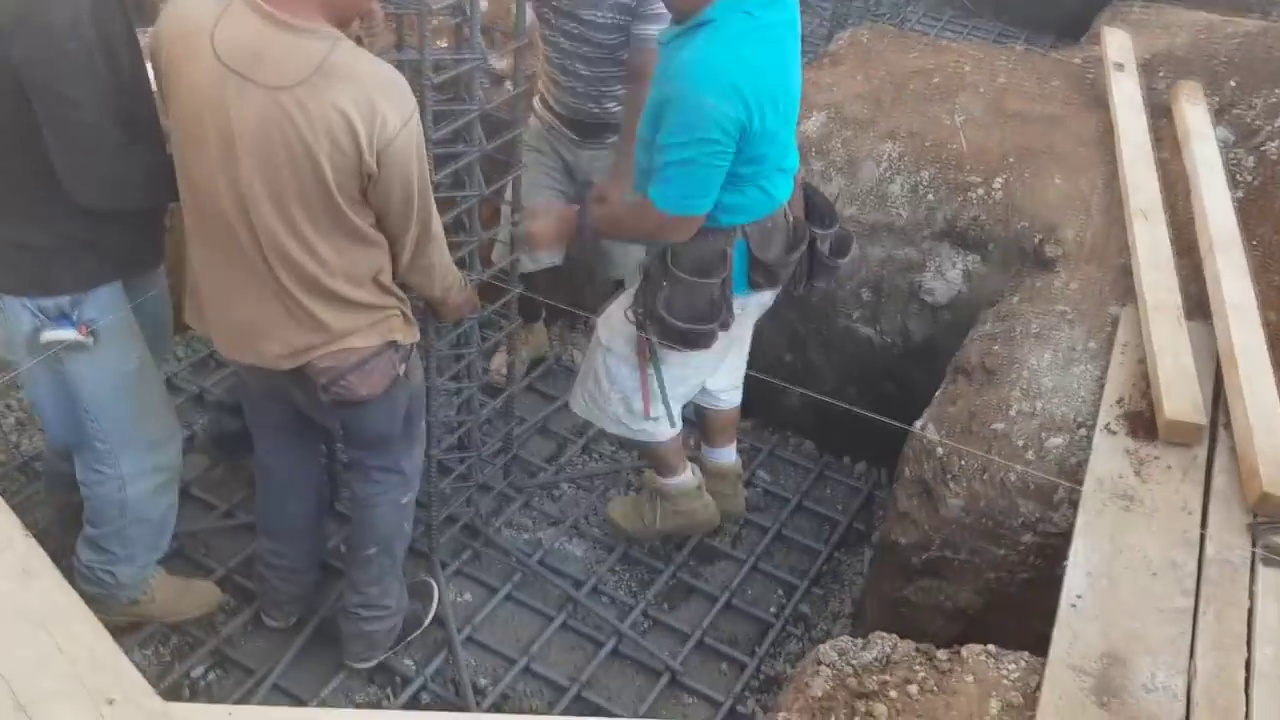person: (146, 0, 487, 670), (559, 0, 811, 556), (4, 0, 216, 627), (509, 0, 674, 337)
